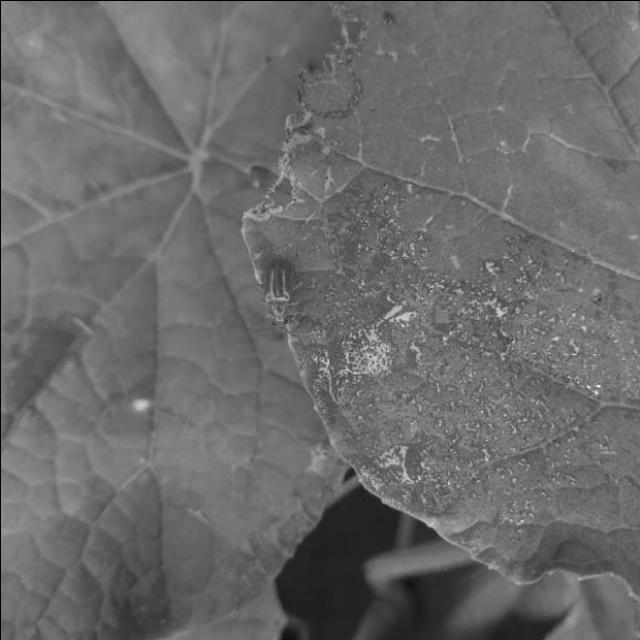Pumpkin Beetle: (242, 250, 305, 342)
